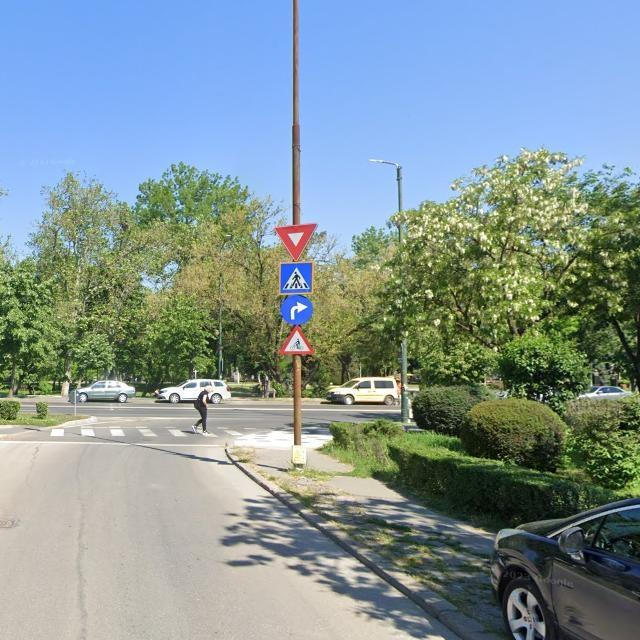info_crosswalk: (278, 261, 314, 295)
prio_give_way: (275, 223, 318, 261)
